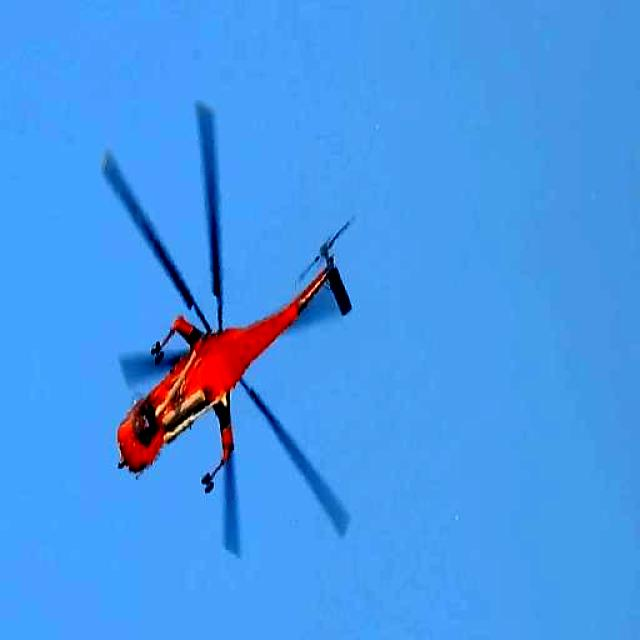drone: (78, 90, 386, 562)
